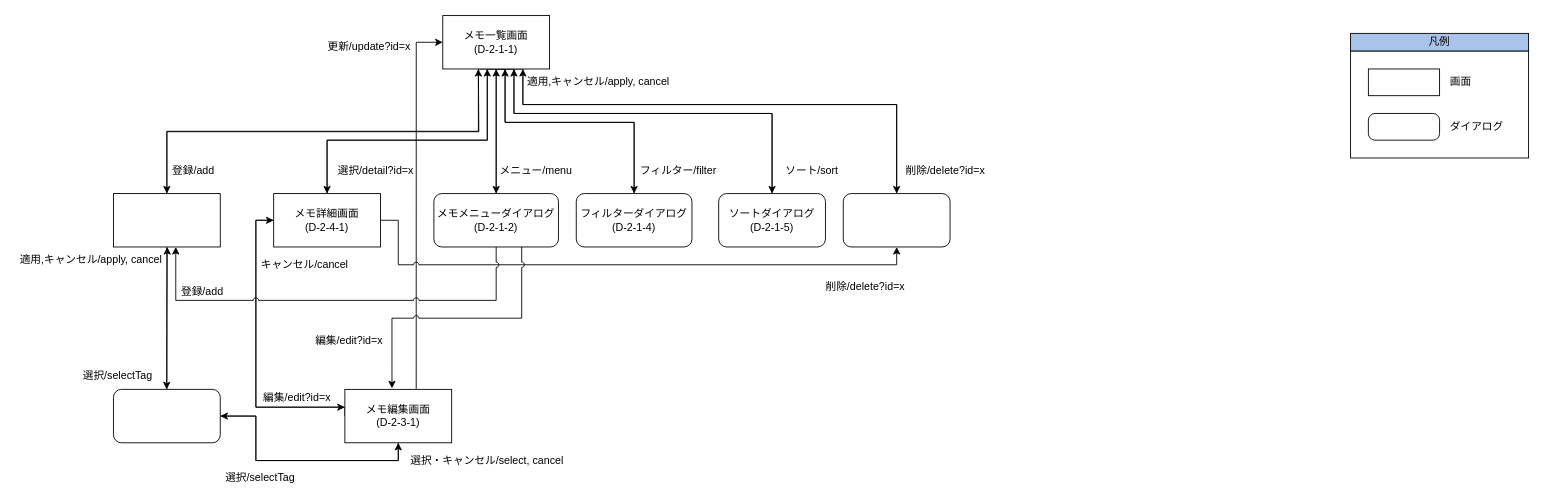
This 1544x503 diagram has some shape labels left out. The shapes that lost their labels are listed below. From the top down, each one's box as (x1, y1, x2, y2) in pixels, then its label:
(113, 193, 220, 247): メモ登録画面 (D-2-2-1 )
(842, 193, 950, 247): メモ削除ダイアログ (D-2-1-3)
(113, 388, 220, 443): タグ選択ダイアログ (D-1-1-1)
